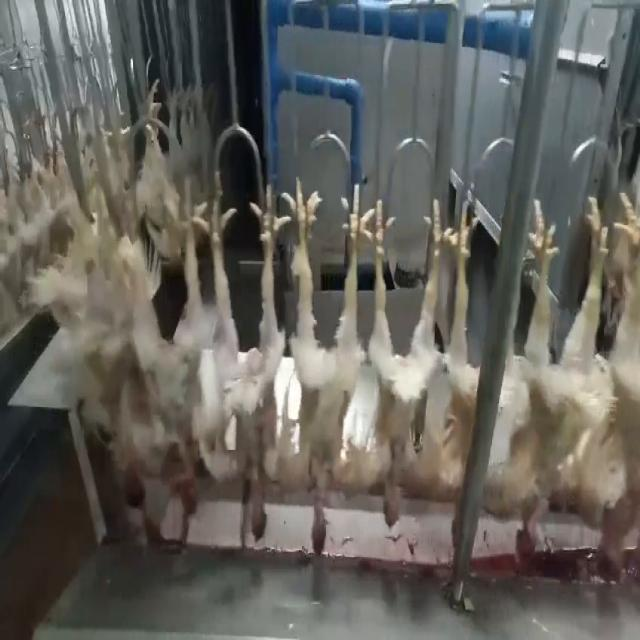chicken: (499, 188, 594, 585), (281, 177, 372, 560), (203, 174, 287, 546), (360, 191, 450, 529), (134, 176, 206, 555), (584, 191, 639, 579), (436, 195, 487, 482), (85, 187, 132, 462)
